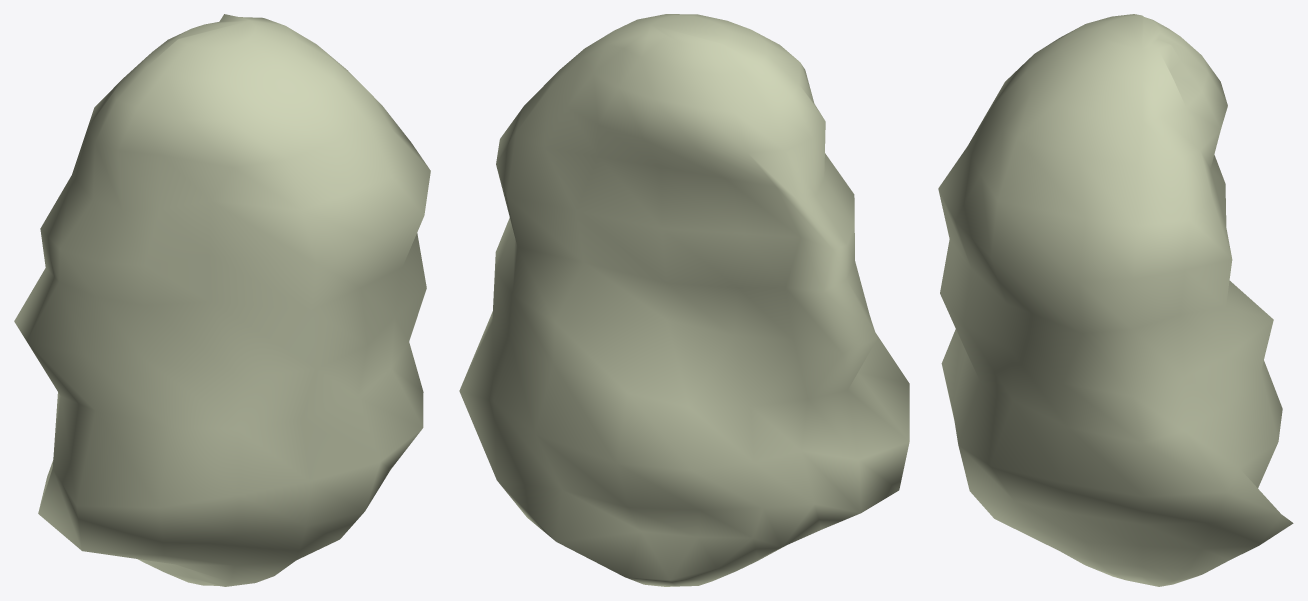
Rendered from mAsteroid5_coll.obj.
3 renders of one model, left to right at view 1: azimuth 30°, elevation 25°; view 2: azimuth 150°, elevation 25°; view 3: azimuth 270°, elevation 25°, orthographic.
Visible parts, largest first — view 1: sphere2; view 2: sphere2; view 3: sphere2.
Part boxes in pixels (x1=…): sphere2: x1=14, y1=14, x2=430, y2=586; sphere2: x1=459, y1=14, x2=909, y2=586; sphere2: x1=938, y1=14, x2=1293, y2=586.
Size of the model in its own units: 5.26 by 7.1 by 4.23.
